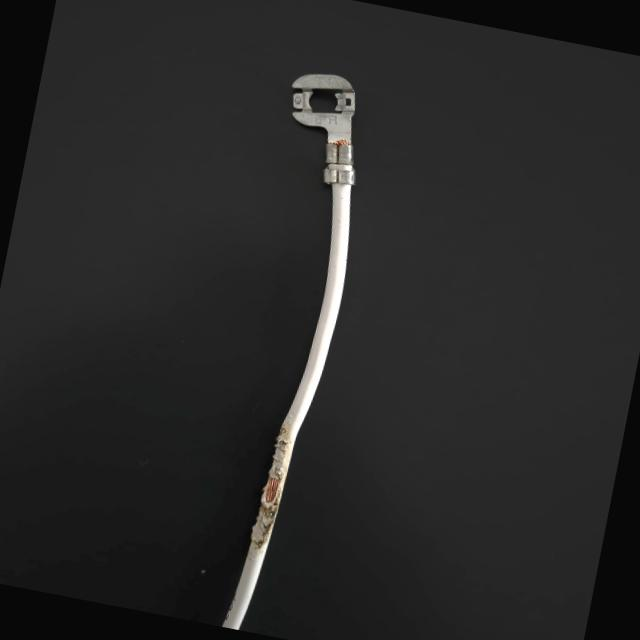defect: (198, 402, 402, 616)
